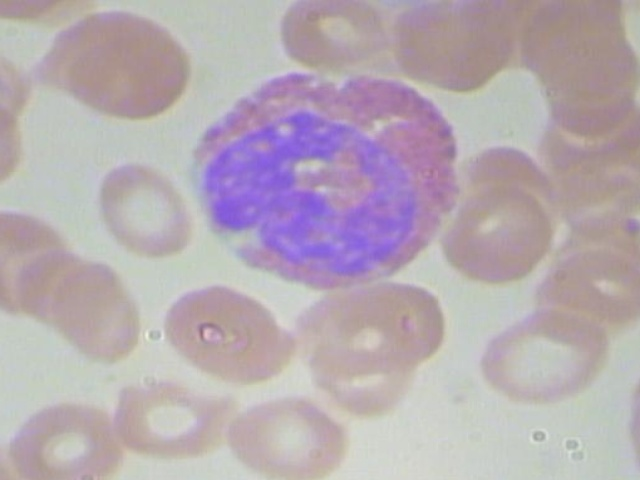RBC: (42, 3, 205, 125), (464, 301, 619, 412), (150, 279, 305, 389), (103, 370, 239, 469), (436, 179, 559, 286), (44, 256, 156, 373), (88, 159, 203, 269), (219, 393, 356, 480), (9, 397, 126, 480), (272, 0, 401, 74)
WBC: (172, 57, 476, 297)
